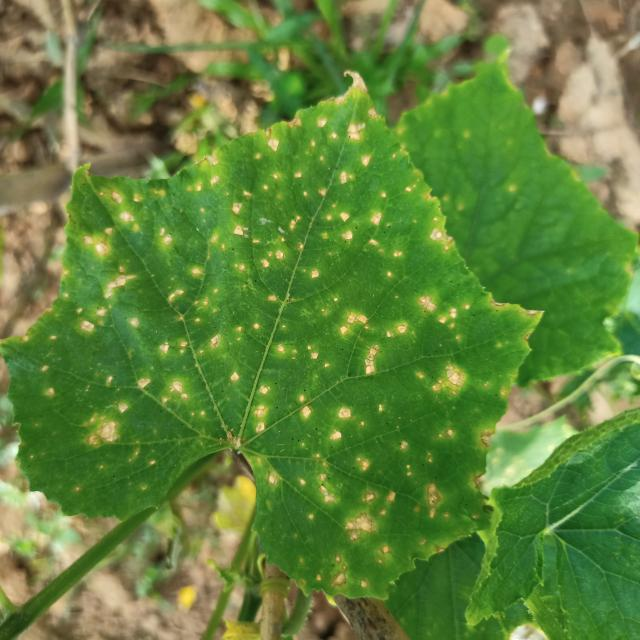disease_cucumber: (108, 118, 484, 396), (254, 310, 499, 587), (28, 231, 306, 461)
